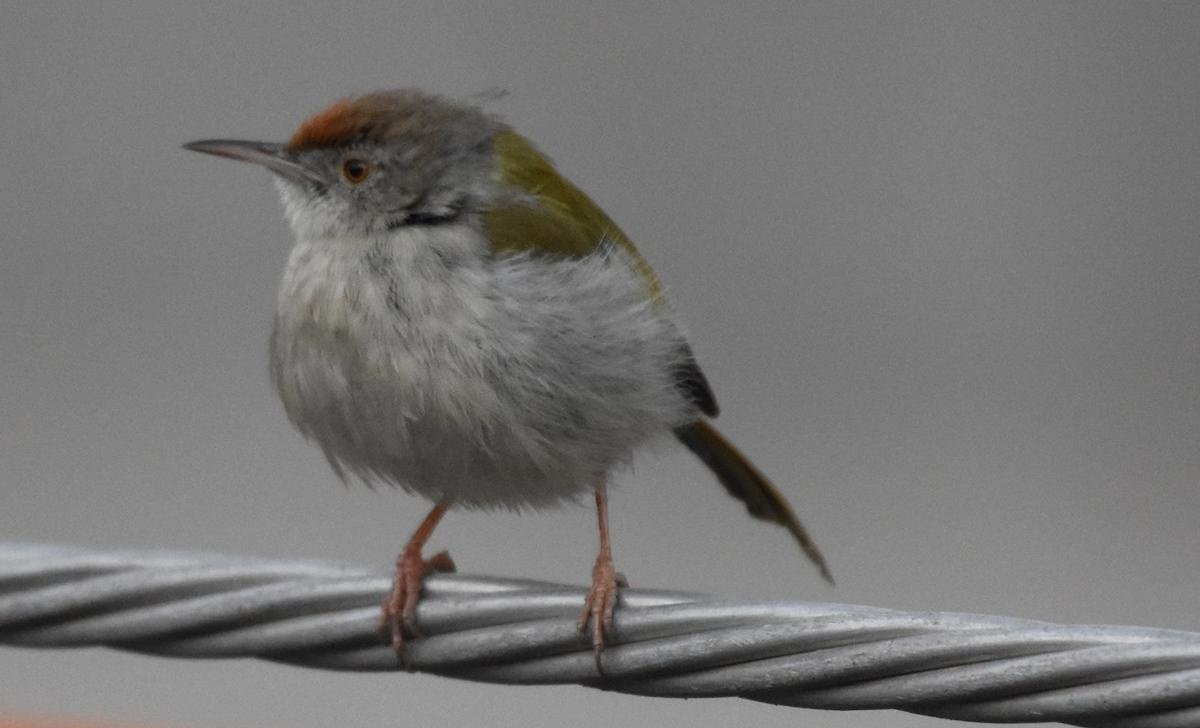tailorbird: (186, 74, 830, 667)
